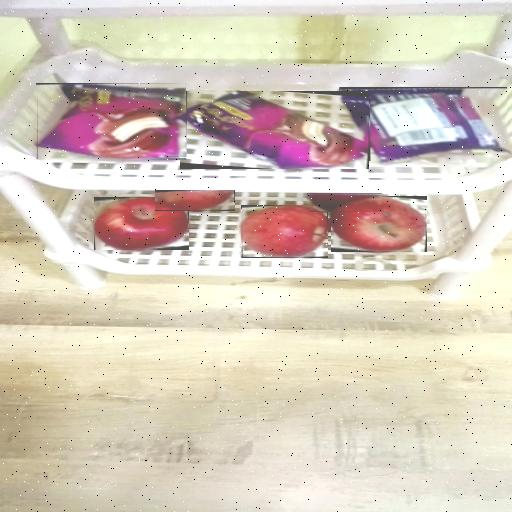Apple: (331, 197, 426, 252), (94, 198, 189, 249), (242, 205, 328, 257), (155, 190, 234, 211), (308, 193, 381, 211)
Choco Pie: (181, 91, 368, 169), (340, 89, 507, 161), (37, 85, 186, 159)
